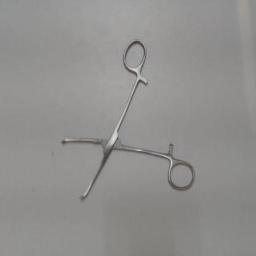Allis Tissue Forceps: (56, 33, 200, 207)
